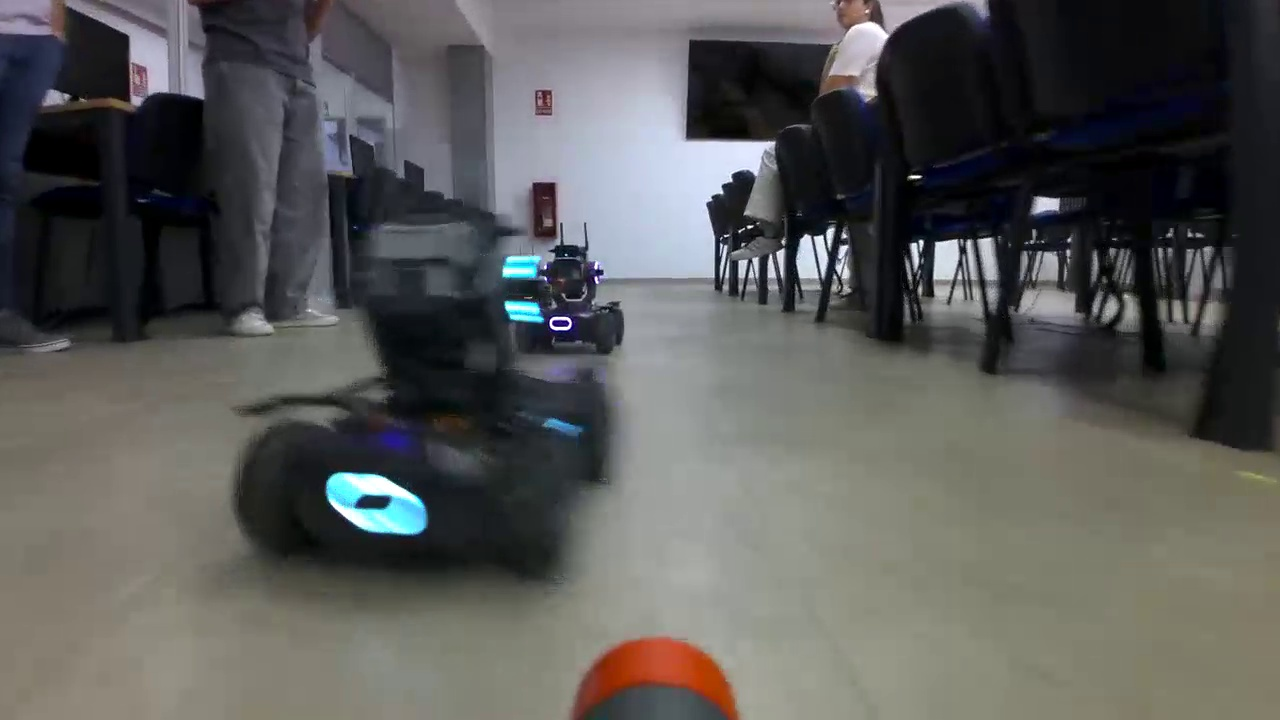robot: (230, 330, 610, 580), (498, 250, 625, 352)
